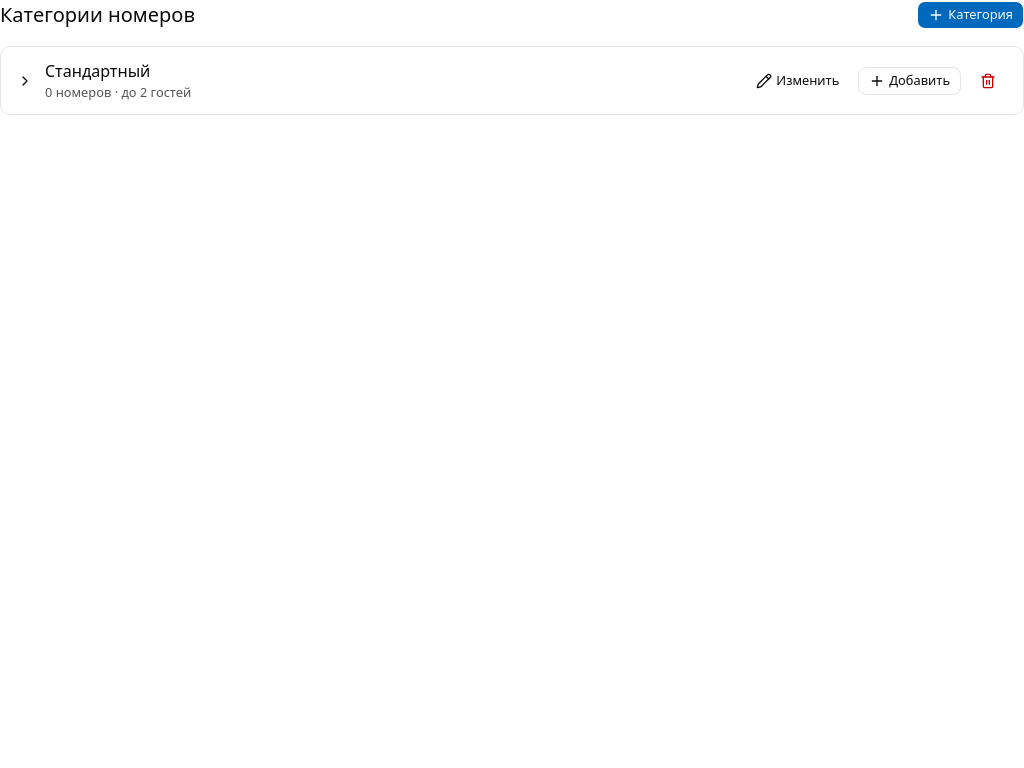
InventoryRoomsPage — render › [P5] click pencil → CategoryFormSheet opens в edit mode с prefilled name
Click the button with aria-label "Изменить категорию «Стандартный»": (798, 81) [745, 67, 850, 95]
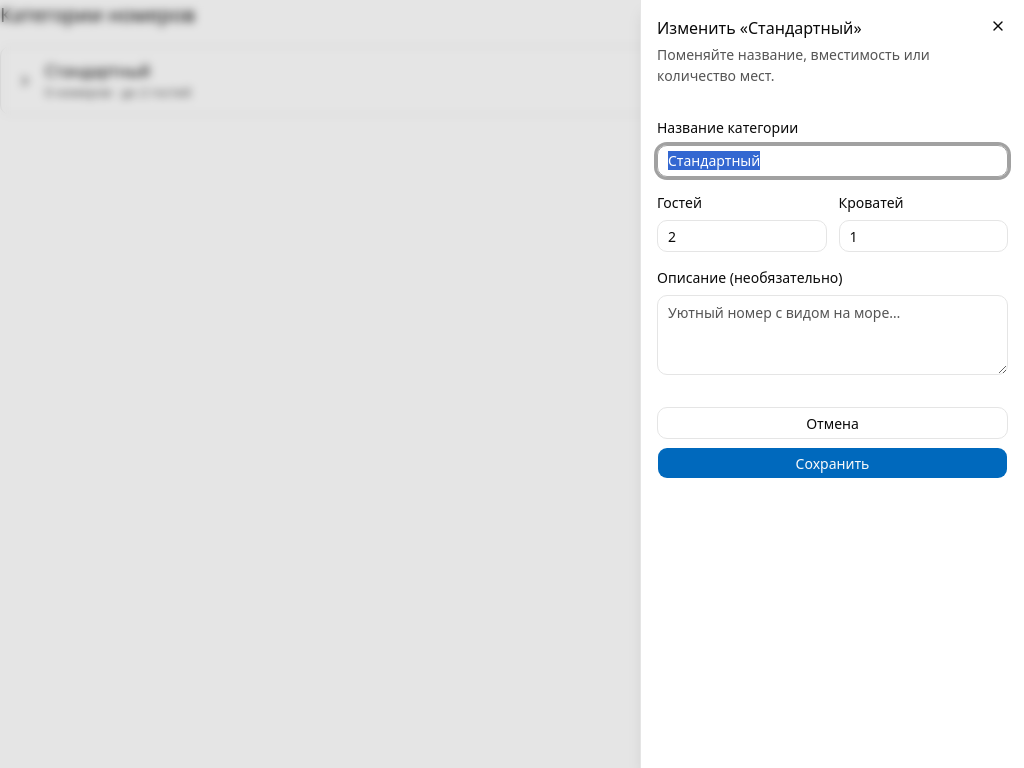
expect the heading "Изменить «Стандартный»" is shown: met, box [657, 17, 862, 39]
